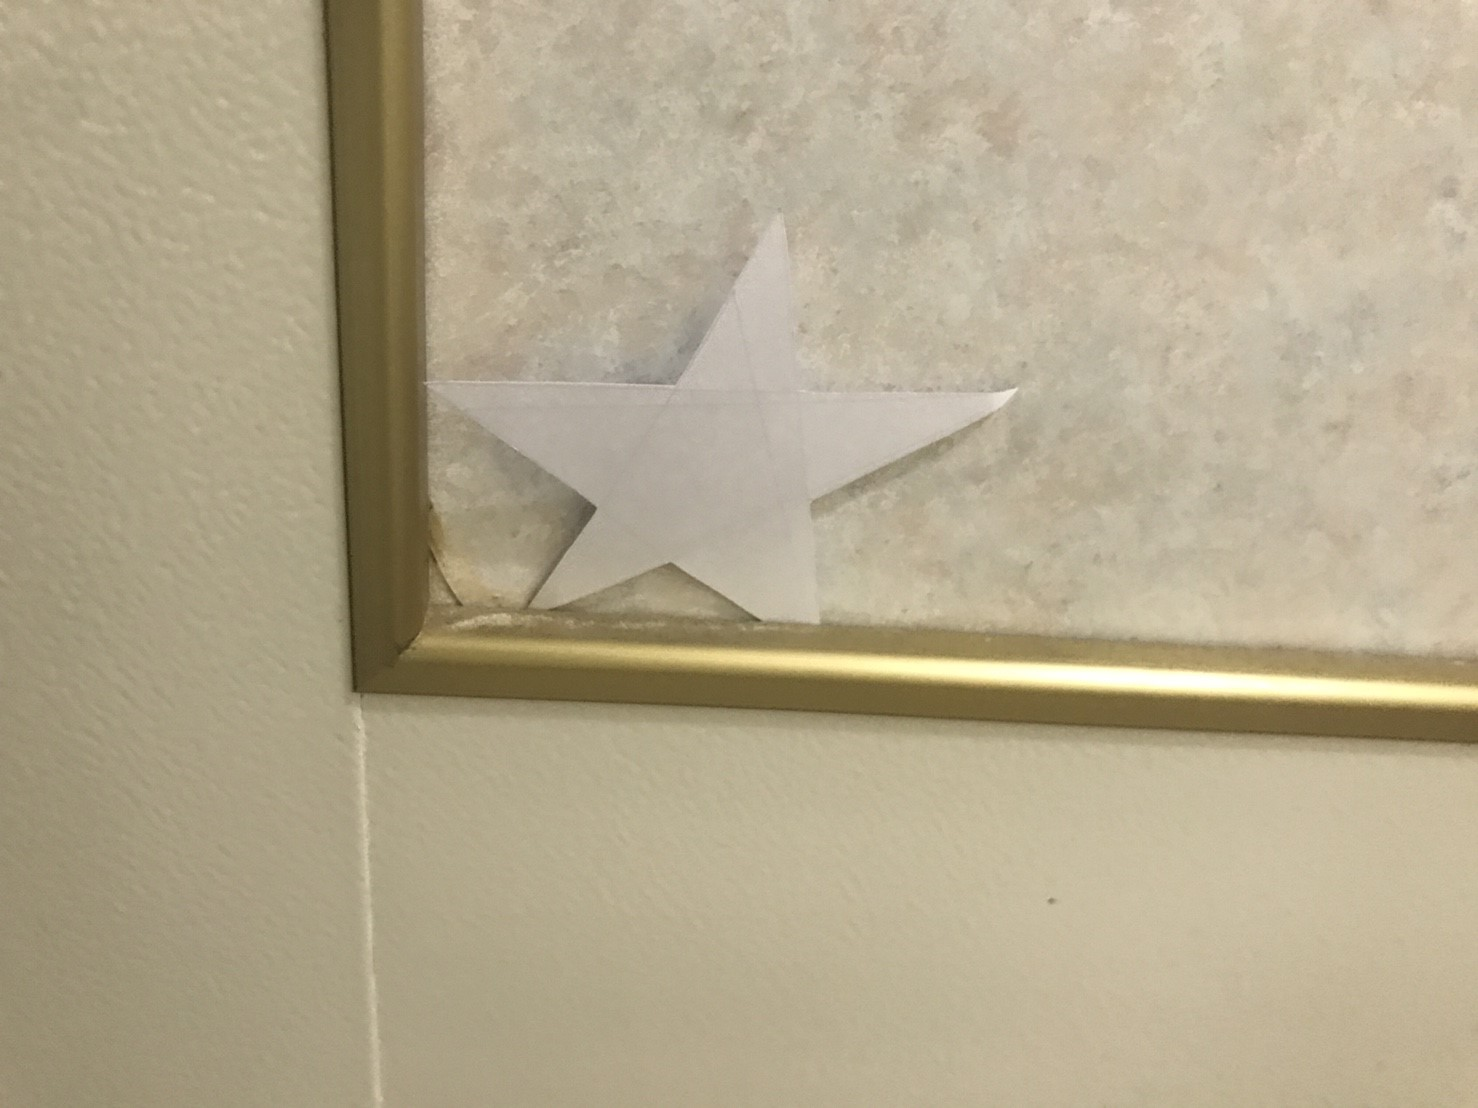star: (374, 192, 1081, 710)
